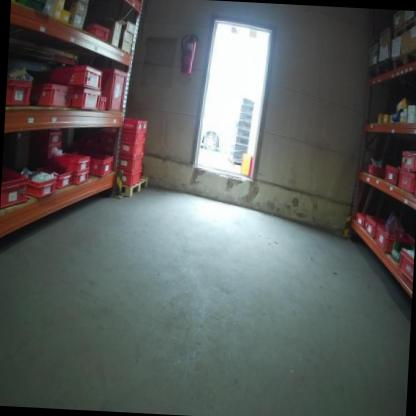pallet: (116, 175, 149, 199), (391, 46, 416, 73), (393, 12, 416, 39), (367, 57, 392, 80)
small_load_carrier: (49, 63, 107, 91), (96, 65, 126, 115), (0, 168, 31, 211), (361, 211, 405, 240), (372, 227, 411, 253), (6, 75, 34, 110), (27, 167, 55, 200), (31, 81, 65, 107), (61, 89, 101, 111), (28, 138, 64, 160), (54, 151, 89, 172), (394, 250, 413, 284), (90, 151, 112, 179), (79, 25, 111, 42), (122, 114, 150, 132), (33, 130, 63, 146), (397, 149, 416, 172), (117, 141, 144, 157), (115, 156, 142, 172), (55, 165, 73, 189), (119, 171, 142, 189), (384, 162, 401, 186), (397, 174, 414, 191), (71, 169, 87, 187), (364, 162, 381, 178), (93, 96, 107, 114), (120, 132, 145, 142), (354, 210, 364, 227), (413, 177, 416, 198)
